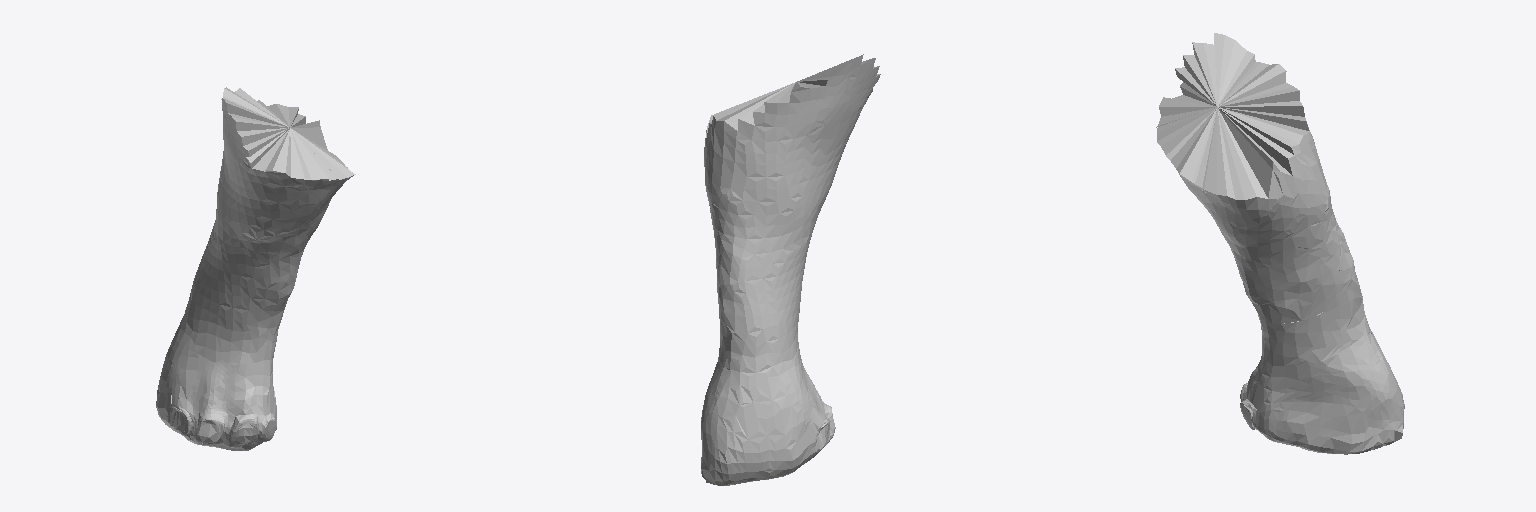
File: pata_TrasDer.obj
3 views of the same model, side by side, from view 1: azimuth 30°, elevation 25°; view 2: azimuth 150°, elevation 25°; view 3: azimuth 270°, elevation 25° (orthographic).
Visible parts, largest first — view 1: pata_TrasDer; view 2: pata_TrasDer; view 3: pata_TrasDer.
Part boxes in pixels (left/top/right/bottom): pata_TrasDer: left=156, top=87, right=355, bottom=450; pata_TrasDer: left=701, top=54, right=880, bottom=485; pata_TrasDer: left=1156, top=33, right=1404, bottom=454.
Size of the model in its own units: 36.25 by 96.02 by 56.37.